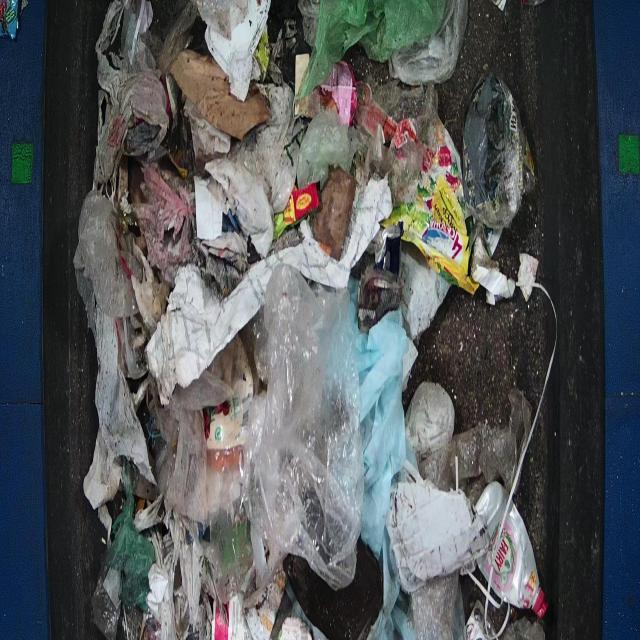cardboard: (50, 0, 605, 638)
